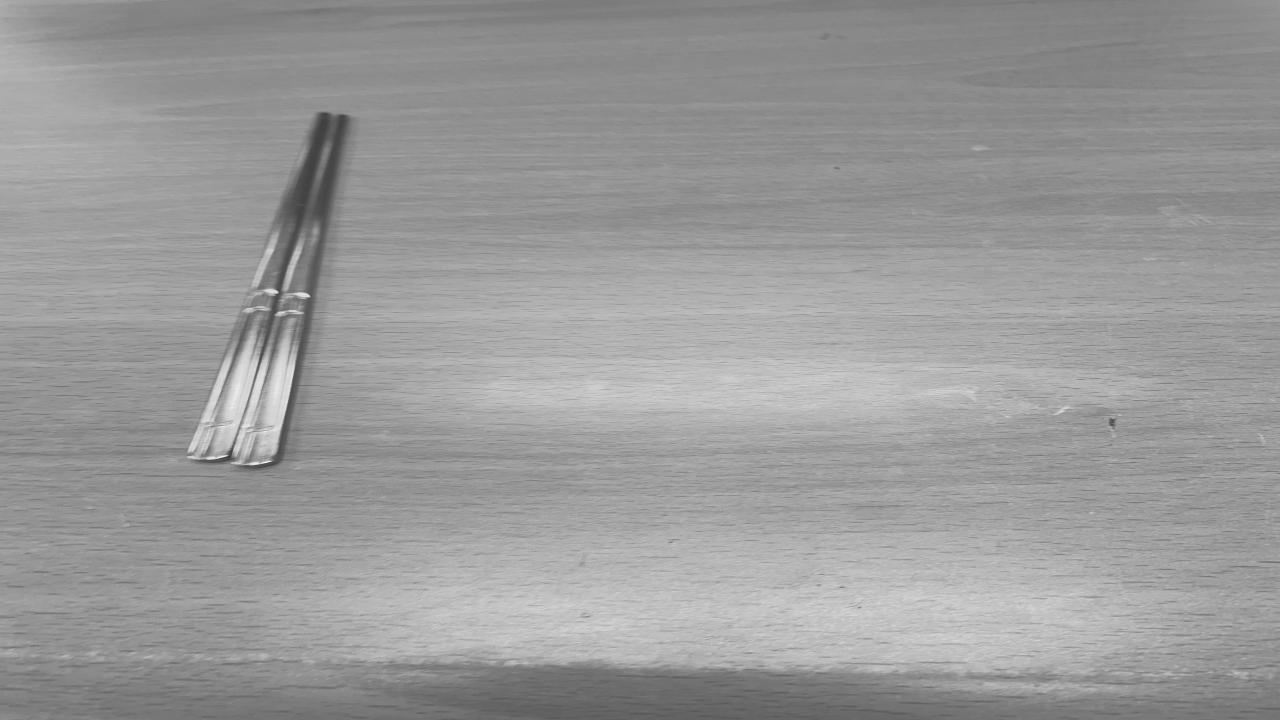chopstick: (195, 113, 349, 464)
